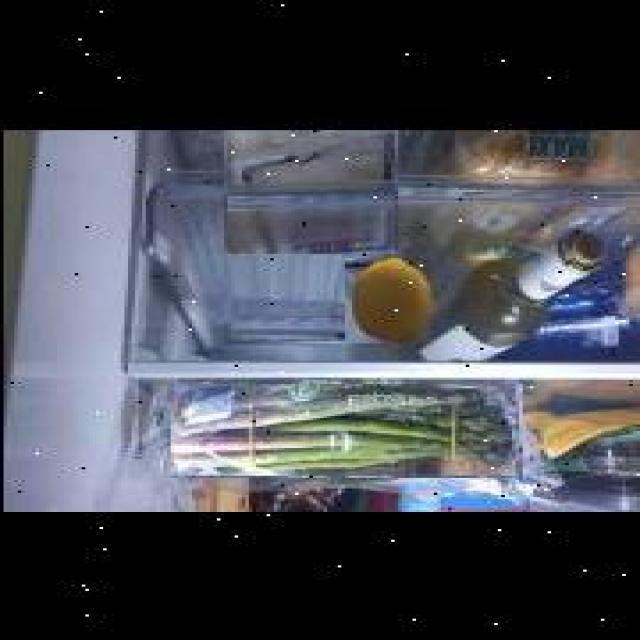asparagus: (170, 380, 520, 474)
cheese: (224, 128, 395, 252)
lemon: (344, 256, 430, 341)
